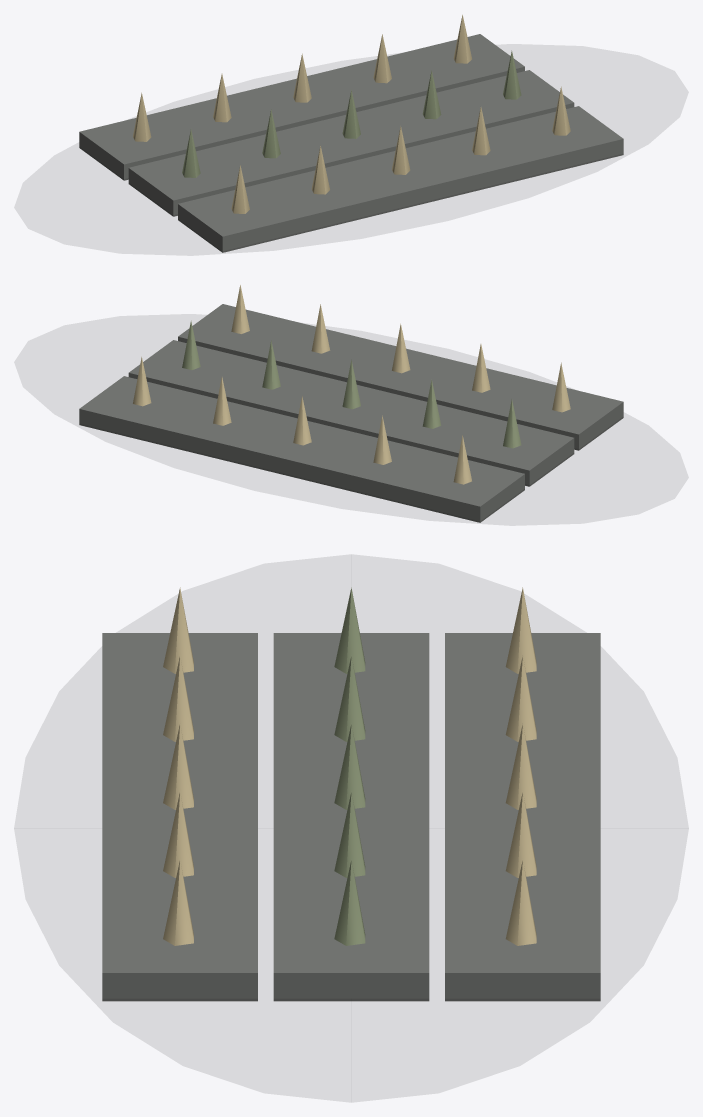
The model's file is garden_patch.glb.
3 renders of one model, top to bottom at view 1: azimuth 30°, elevation 25°; view 2: azimuth 150°, elevation 25°; view 3: azimuth 270°, elevation 25°, orthographic. The views are drawn at different scales.
Visible parts, largest first — view 1: soil_bed_2, soil_bed_1, soil_bed_0, dry_sprout_1_4, dry_sprout_2_4, dry_sprout_0_0, dry_sprout_0_2, dry_sprout_2_1, dry_sprout_0_4, dry_sprout_1_1, dry_sprout_2_2, dry_sprout_1_0 (+6 smaller); view 2: soil_bed_0, soil_bed_1, soil_bed_2, dry_sprout_1_2, dry_sprout_1_3, dry_sprout_1_0, dry_sprout_1_1, dry_sprout_1_4, dry_sprout_2_0, dry_sprout_2_1, dry_sprout_2_3, dry_sprout_0_2 (+6 smaller); view 3: soil_bed_1, soil_bed_0, soil_bed_2, dry_sprout_0_4, dry_sprout_1_4, dry_sprout_2_4, dry_sprout_0_3, dry_sprout_1_0, dry_sprout_1_1, dry_sprout_0_1, dry_sprout_0_2, dry_sprout_1_2 (+6 smaller).
Part boxes in pixels (x1,y1,x2,y2): soil_bed_2: [178, 106, 623, 252]; soil_bed_1: [128, 70, 574, 216]; soil_bed_0: [79, 34, 524, 180]; dry_sprout_1_4: [503, 50, 521, 99]; dry_sprout_2_4: [552, 86, 570, 135]; dry_sprout_0_0: [133, 92, 151, 141]; dry_sprout_0_2: [293, 53, 311, 102]; dry_sprout_2_1: [311, 145, 329, 194]; dry_sprout_0_4: [453, 15, 471, 63]; dry_sprout_1_1: [262, 109, 280, 158]; dry_sprout_2_2: [392, 126, 410, 174]; dry_sprout_1_0: [182, 129, 200, 177]; soil_bed_0: [79, 376, 524, 522]; soil_bed_1: [128, 340, 574, 486]; soil_bed_2: [178, 304, 623, 450]; dry_sprout_1_2: [342, 359, 360, 409]; dry_sprout_1_3: [262, 340, 280, 389]; dry_sprout_1_0: [503, 399, 521, 448]; dry_sprout_1_1: [422, 379, 441, 428]; dry_sprout_1_4: [182, 320, 200, 369]; dry_sprout_2_0: [552, 362, 570, 412]; dry_sprout_2_1: [472, 344, 490, 392]; dry_sprout_2_3: [311, 304, 330, 353]; dry_sprout_0_2: [293, 396, 311, 445]; soil_bed_1: [273, 633, 429, 1001]; soil_bed_0: [445, 633, 600, 1001]; soil_bed_2: [102, 633, 257, 1001]; dry_sprout_0_4: [505, 859, 536, 945]; dry_sprout_1_4: [334, 859, 365, 945]; dry_sprout_2_4: [163, 859, 193, 945]; dry_sprout_0_3: [505, 791, 536, 877]; dry_sprout_1_0: [334, 587, 365, 673]; dry_sprout_1_1: [334, 655, 365, 741]; dry_sprout_0_1: [505, 655, 536, 741]; dry_sprout_0_2: [505, 723, 536, 809]; dry_sprout_1_2: [334, 723, 365, 809].
Bounding box in the file's own units: 2.5 × 0.23 × 1.3.
